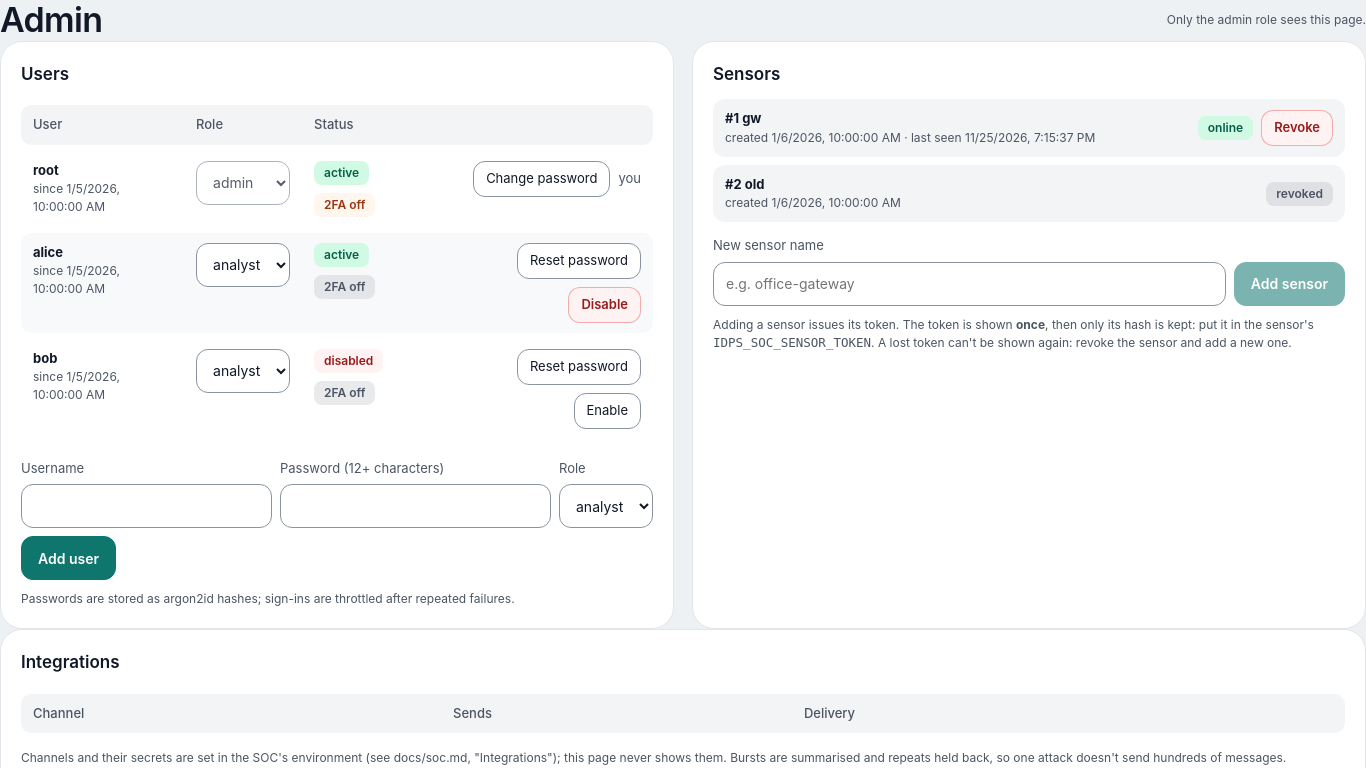
Test: users › reset password › submitting posts the password, shows the notice and closes
Click the button with aria-label "Reset password of alice" at {"x": 579, "y": 261}, box x1=517 y1=243 x2=641 y2=279
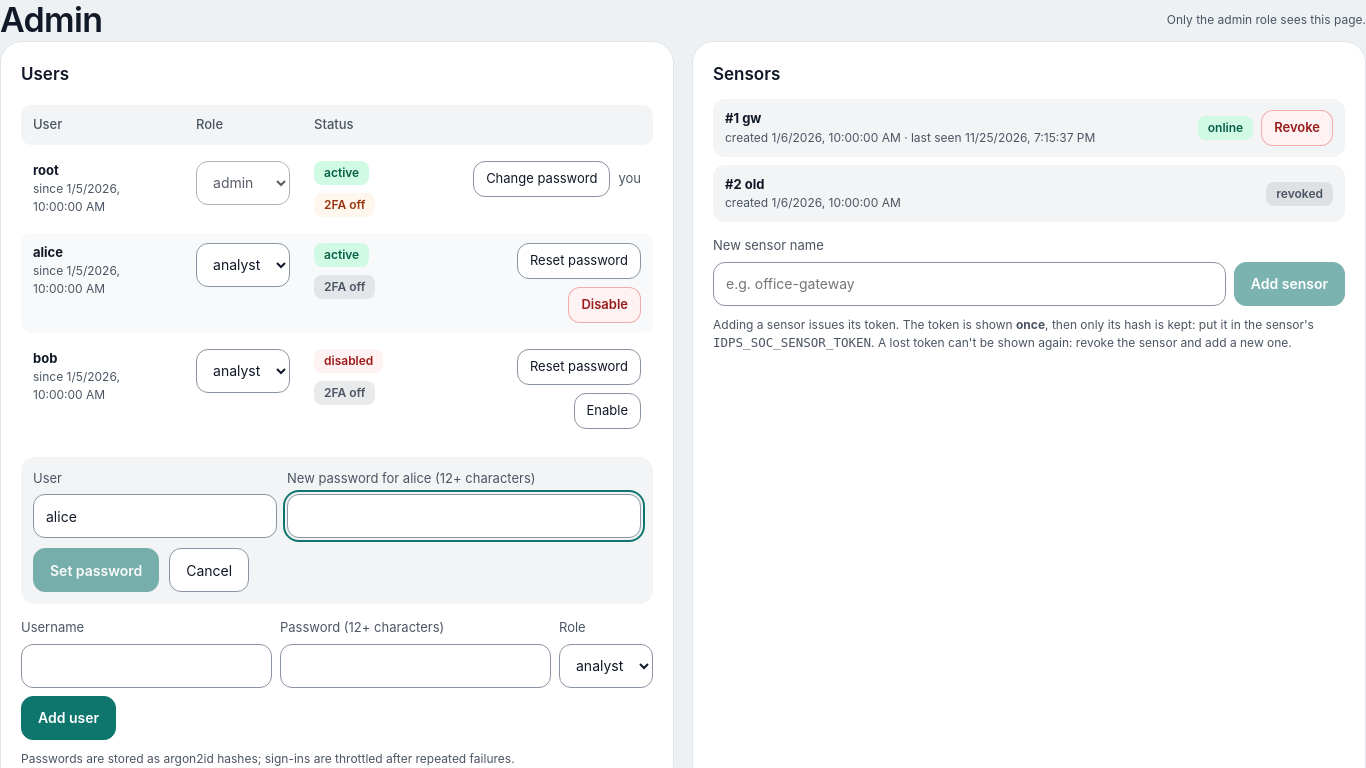
Type "correct horse battery" into the password field labelled "New password for alice (12+ characters)" at {"x": 464, "y": 516}, box x1=287 y1=494 x2=641 y2=538
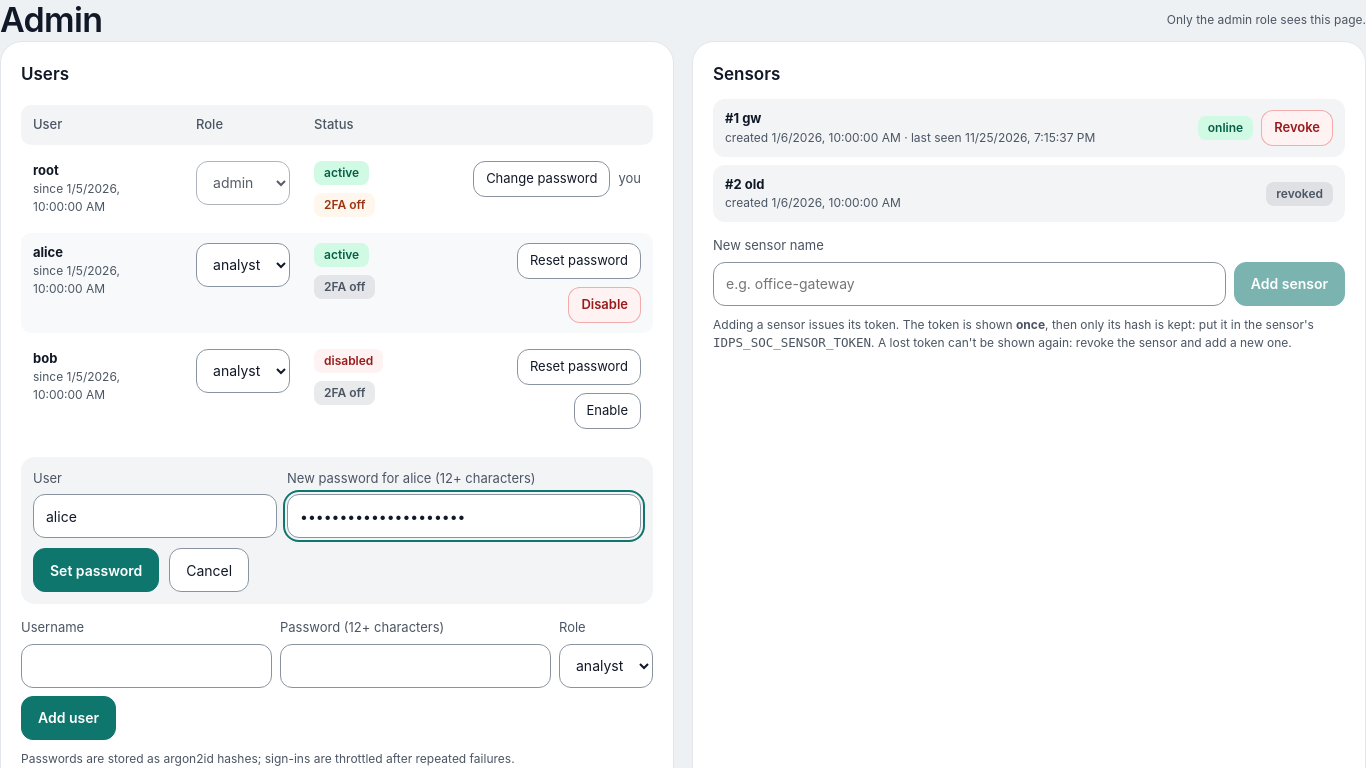
Submit the form named "Reset password of alice", box x1=21 y1=457 x2=653 y2=604
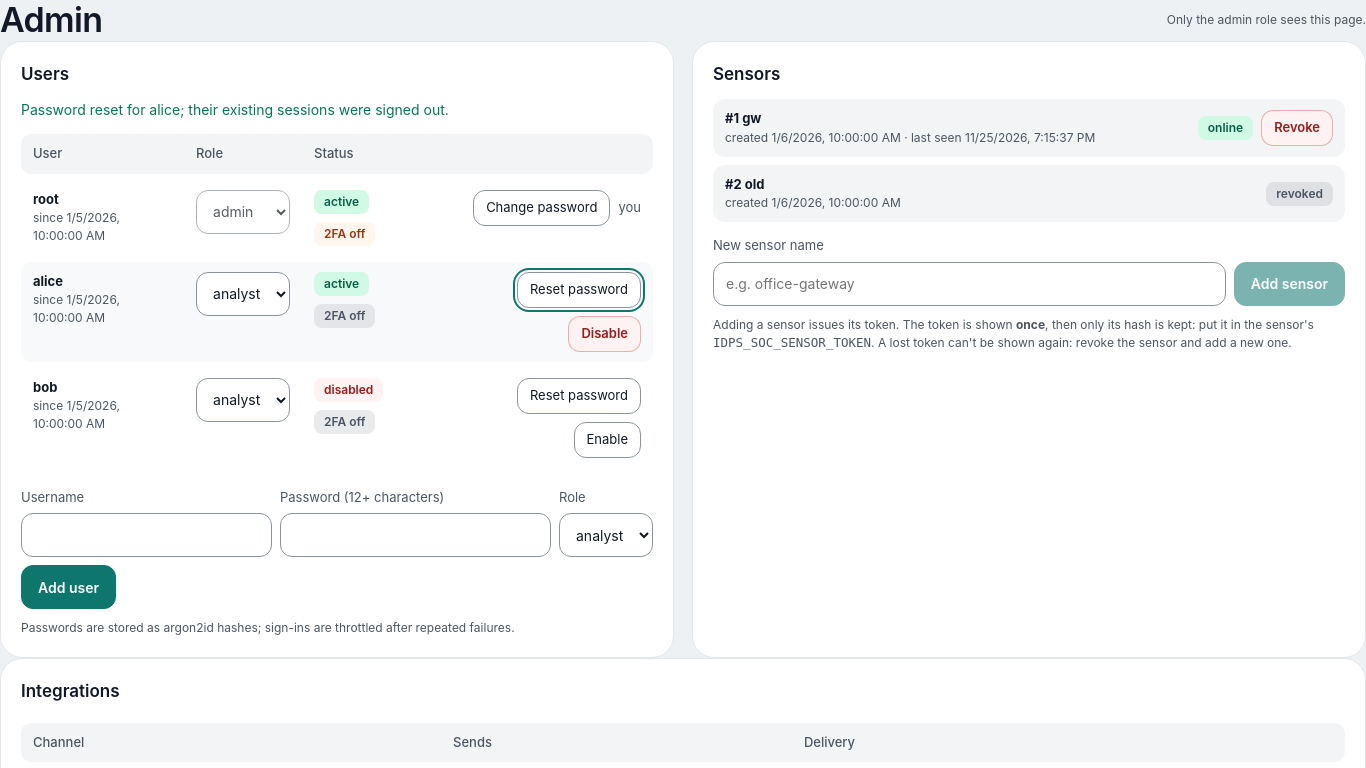
Check: the text "Password reset for alice; their existing sessions were signed out." is shown, box x1=21 y1=101 x2=449 y2=118
